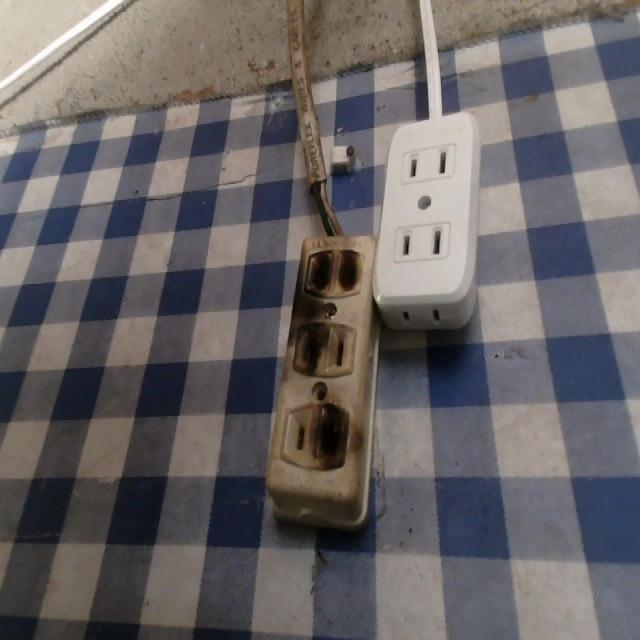-: (300, 242, 367, 306), (310, 404, 354, 471), (282, 319, 331, 377)
